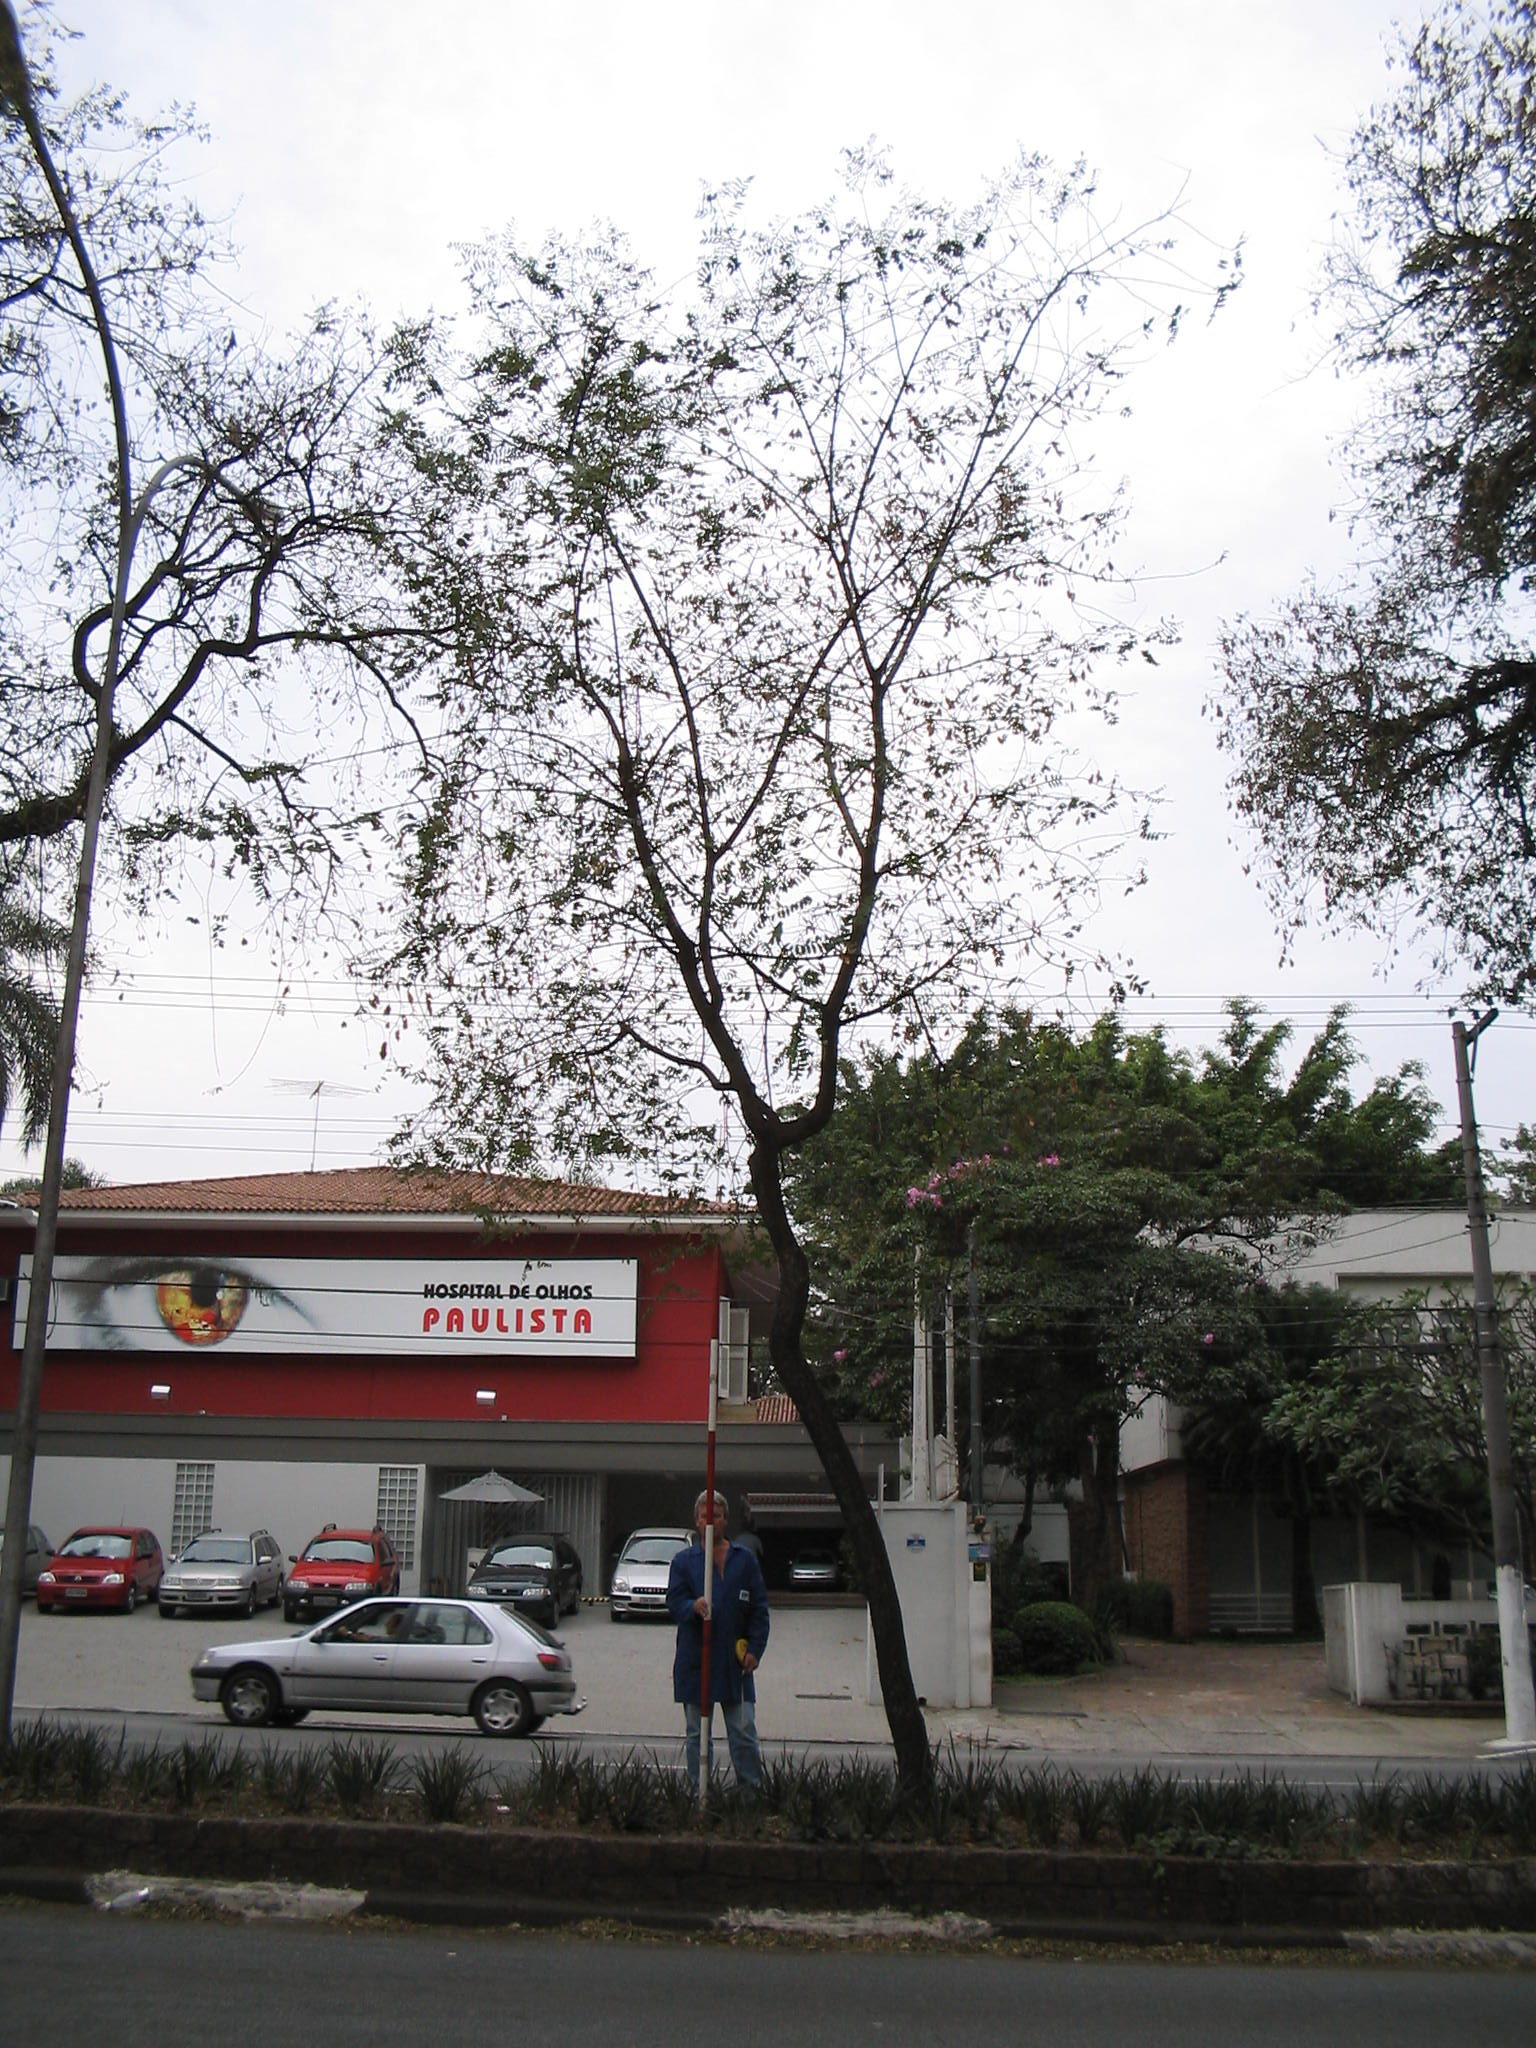crown: (189, 140, 1257, 1226)
stem: (731, 1150, 989, 1834)
stick: (670, 1337, 752, 1829)
tree: (182, 134, 1262, 1840)
